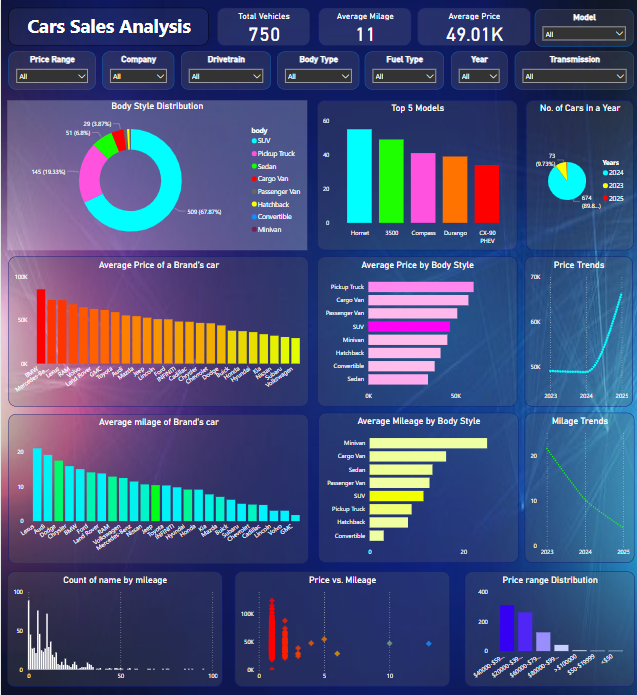

The page's visual inventory and layout, read from the dashboard file:
{"tool":"powerbi","page":{"name":"Page 1","canvas":[1280,1400],"ordinal":0},"visuals":[{"type":"textbox","box":[14.3,18.6,400,75],"z":0},{"type":"slicer","title":"Company","fields":{"Values":["vehicles_dataset.make"]},"box":[201.4,104.3,144.3,75.7],"z":1000},{"type":"slicer","title":"Price Range","fields":{"Values":["vehicles_dataset.Price Range"]},"box":[14.3,104.3,174.3,75.7],"z":2000},{"type":"slicer","title":"Year","fields":{"Values":["vehicles_dataset.year"]},"box":[898.8,103.8,112.5,76.2],"z":3000},{"type":"slicer","title":"Body Type","fields":{"Values":["vehicles_dataset.body"]},"box":[552.9,104.3,164.3,75.7],"z":4000},{"type":"slicer","title":"Fuel Type","fields":{"Values":["vehicles_dataset.fuel"]},"box":[727.1,104.3,158.6,75.7],"z":5000},{"type":"slicer","title":"Model","fields":{"Values":["vehicles_dataset.model"]},"box":[1067.5,18.8,197.5,75],"z":6000},{"type":"slicer","title":"Drivetrain","fields":{"Values":["vehicles_dataset.drivetrain"]},"box":[360,104.3,180,75.7],"z":7000},{"type":"slicer","title":"Transmission","fields":{"Values":["vehicles_dataset.transmission"]},"box":[1026.2,103.8,238.8,76.2],"z":8000},{"type":"donutChart","title":"Body Style Distribution","fields":{"Category":["vehicles_dataset.body"],"Y":["CountNonNull(vehicles_dataset.body)"]},"box":[13.6,202.3,600,300],"z":9000},{"type":"barChart","title":"Average Price by Body Style","fields":{"Category":["vehicles_dataset.body"],"Y":["Avg(vehicles_dataset.price)"]},"box":[633,514.8,400,300],"z":10000},{"type":"barChart","title":"Average Mileage by Body Style","fields":{"Category":["vehicles_dataset.body"],"Y":["Avg(vehicles_dataset.mileage)"]},"box":[634.1,828.4,400,300],"z":11000},{"type":"clusteredColumnChart","title":"Top 5 Models","fields":{"Category":["vehicles_dataset.model"],"Y":["CountNonNull(vehicles_dataset.model)"]},"box":[633,202.3,400,300],"z":12000},{"type":"columnChart","title":"Average Price of a Brand''s car ","fields":{"Y":["Avg(vehicles_dataset.price)"],"Category":["vehicles_dataset.make"]},"box":[14.3,514.3,600,300],"z":13000},{"type":"clusteredColumnChart","title":"Average milage of Brand''s car","fields":{"Category":["vehicles_dataset.make"],"Y":["Avg(vehicles_dataset.mileage)"]},"box":[13.8,828.8,600,300],"z":14000},{"type":"lineChart","title":"Price Trends","fields":{"Category":["vehicles_dataset.year"],"Y":["Avg(vehicles_dataset.price)"]},"box":[1048.6,514.3,215.7,300],"z":15000},{"type":"lineChart","title":"Milage Trends","fields":{"Category":["vehicles_dataset.year"],"Y":["Avg(vehicles_dataset.mileage)"]},"box":[1047,828,219,300],"z":16000},{"type":"clusteredColumnChart","title":"Price range Distribution","fields":{"Y":["CountNonNull(vehicles_dataset.name)"],"Category":["vehicles_dataset.Price Range"]},"box":[927.5,1145,340,230],"z":17000},{"type":"clusteredColumnChart","fields":{"Y":["CountNonNull(vehicles_dataset.name)"],"Category":["vehicles_dataset.mileage"]},"box":[13.3,1145,430,230],"z":18000},{"type":"scatterChart","title":"Price vs. Mileage","fields":{"X":["CountNonNull(vehicles_dataset.mileage)"],"Y":["vehicles_dataset.price"]},"box":[468.3,1145,430,230],"z":19000},{"type":"pieChart","title":"No. of Cars in a Year","fields":{"Category":["vehicles_dataset.year"],"Y":["CountNonNull(vehicles_dataset.name)"]},"box":[1051,202,215,300],"z":20000},{"type":"card","title":"Total Vehicles","fields":{"Values":["CountNonNull(vehicles_dataset.name)"]},"box":[431.4,17.1,185.7,75.7],"z":21000},{"type":"card","title":"Average Price","fields":{"Values":["Avg(vehicles_dataset.price)"]},"box":[832.9,18.6,227.1,75.7],"z":22000},{"type":"card","title":"Average Milage","fields":{"Values":["Avg(vehicles_dataset.mileage)"]},"box":[634.3,18.6,185.7,75.7],"z":23000}]}

Visuals, with their boxes in screenshot pixels (x1, y1, x2, y2), scaled from the page's 1280x1400 canvas onto the 637x695 screenshot:
textbox: <bbox>7, 9, 206, 46</bbox>
"Company" slicer: <bbox>100, 52, 172, 89</bbox>
"Price Range" slicer: <bbox>7, 52, 94, 89</bbox>
"Year" slicer: <bbox>447, 52, 503, 89</bbox>
"Body Type" slicer: <bbox>275, 52, 357, 89</bbox>
"Fuel Type" slicer: <bbox>362, 52, 441, 89</bbox>
"Model" slicer: <bbox>531, 9, 630, 47</bbox>
"Drivetrain" slicer: <bbox>179, 52, 269, 89</bbox>
"Transmission" slicer: <bbox>511, 52, 630, 89</bbox>
"Body Style Distribution" donutChart: <bbox>7, 100, 305, 249</bbox>
"Average Price by Body Style" barChart: <bbox>315, 256, 514, 404</bbox>
"Average Mileage by Body Style" barChart: <bbox>316, 411, 515, 560</bbox>
"Top 5 Models" clusteredColumnChart: <bbox>315, 100, 514, 249</bbox>
"Average Price of a Brand''s car " columnChart: <bbox>7, 255, 306, 404</bbox>
"Average milage of Brand''s car" clusteredColumnChart: <bbox>7, 411, 305, 560</bbox>
"Price Trends" lineChart: <bbox>522, 255, 629, 404</bbox>
"Milage Trends" lineChart: <bbox>521, 411, 630, 560</bbox>
"Price range Distribution" clusteredColumnChart: <bbox>462, 568, 631, 683</bbox>
clusteredColumnChart - CountNonNull(vehicles_dataset.name) x vehicles_dataset.mileage: <bbox>7, 568, 221, 683</bbox>
"Price vs. Mileage" scatterChart: <bbox>233, 568, 447, 683</bbox>
"No. of Cars in a Year" pieChart: <bbox>523, 100, 630, 249</bbox>
"Total Vehicles" card: <bbox>215, 8, 307, 46</bbox>
"Average Price" card: <bbox>414, 9, 528, 47</bbox>
"Average Milage" card: <bbox>316, 9, 408, 47</bbox>
